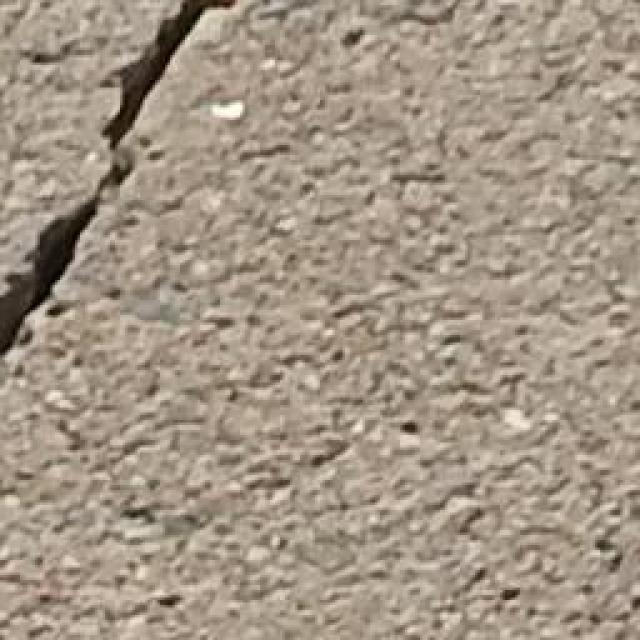concrete-crack: (0, 0, 261, 378)
